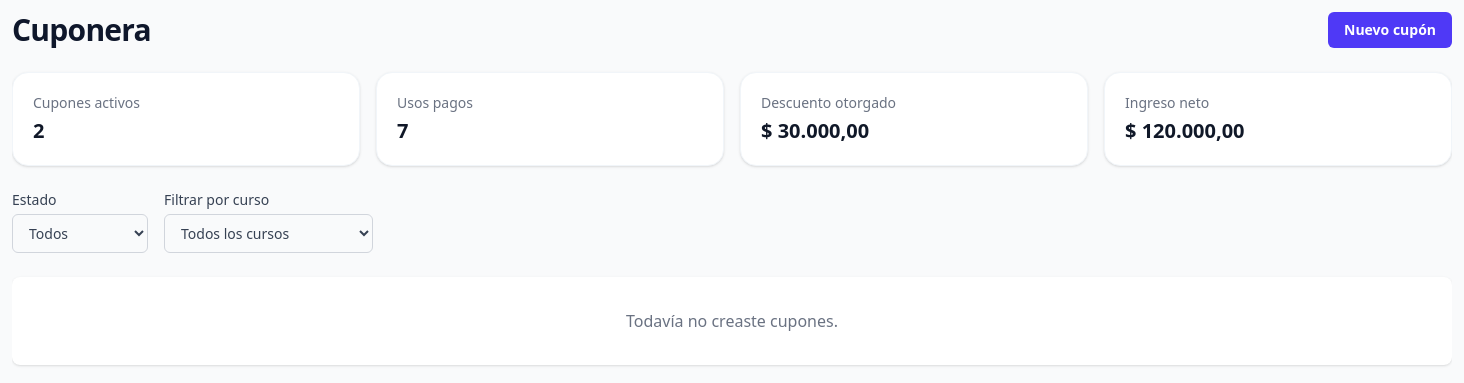
Test: CouponsPage › tells apart "no coupons yet" from "no coupons with those filters"
expect the text "Todavía no creaste cupones." is shown: met, box [626,310,838,332]
Select "Vencidos" in the dropdown labelled "Estado" at (80, 234), box [12,214,148,253]
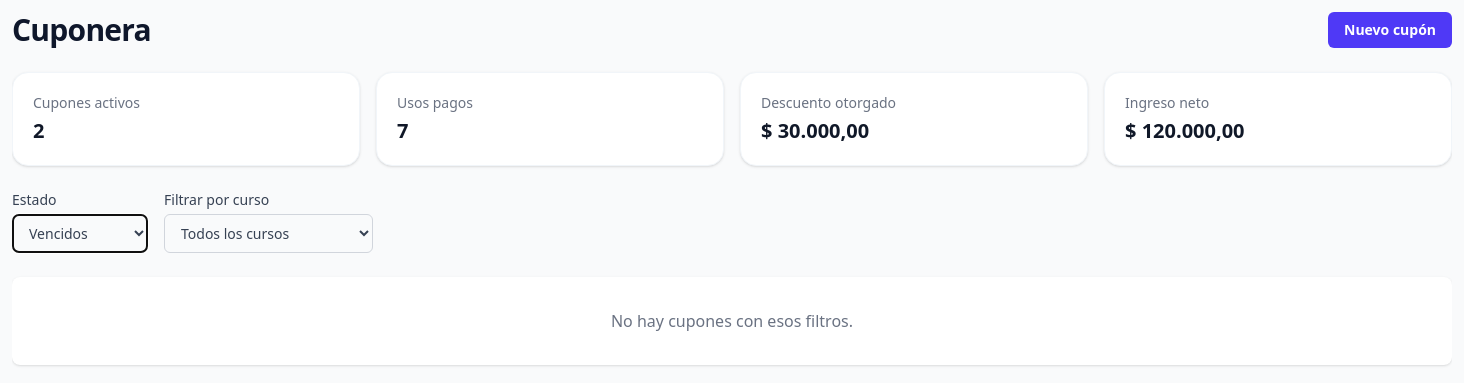
expect the text "No hay cupones con esos filtros." is shown: met, box [611,310,853,332]
